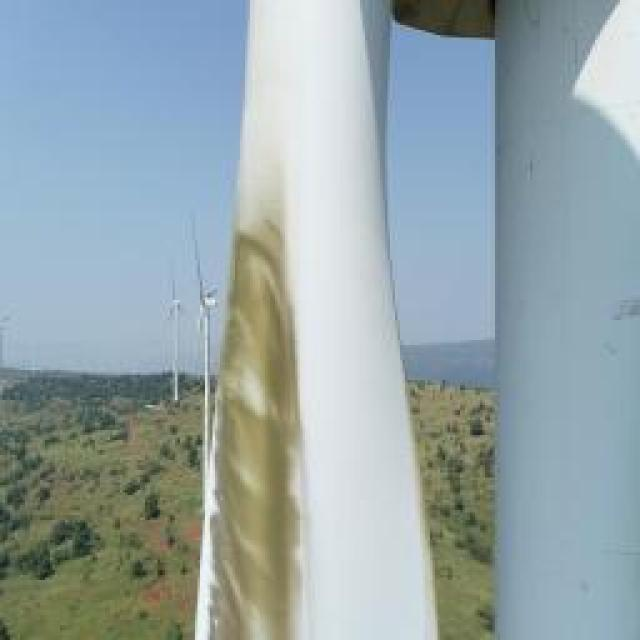Dirt: (195, 154, 320, 639)
